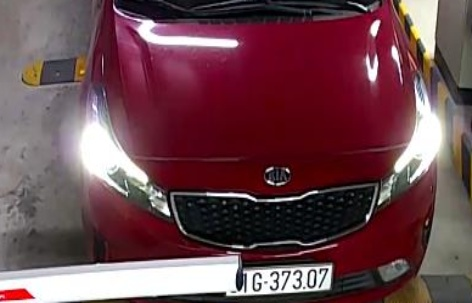plate: (234, 246, 343, 298)
